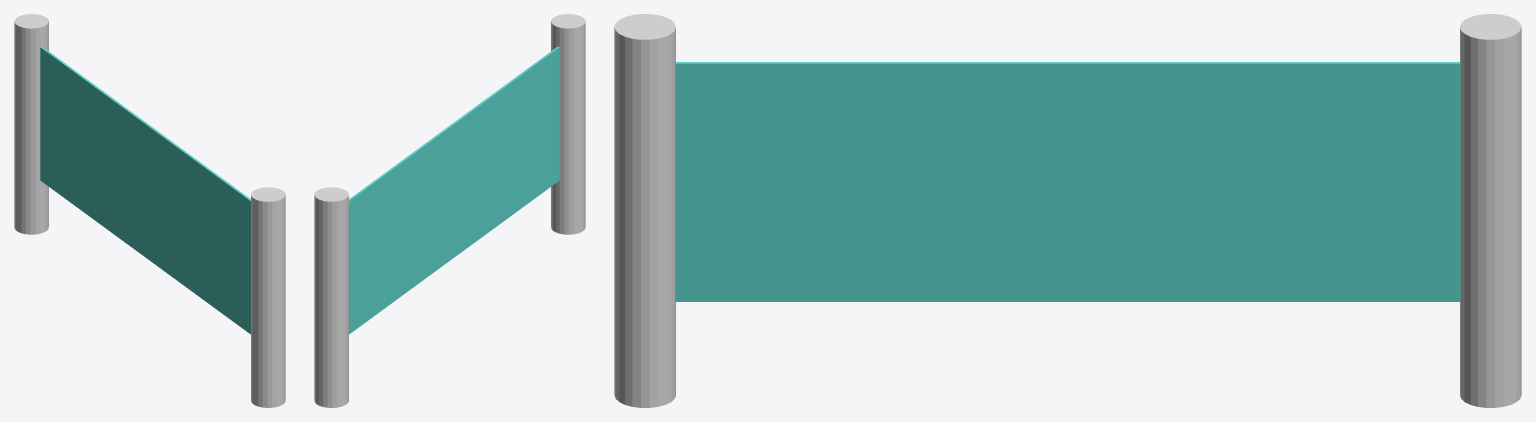
File: change 3.fbx
The picture shows the model from 3 angles, left to right: view 1: azimuth 30°, elevation 25°; view 2: azimuth 150°, elevation 25°; view 3: azimuth 270°, elevation 25°; orthographic projection. The views are drawn at different scales.
Visible parts, largest first — view 1: Snow floor .002; view 2: Snow floor .002; view 3: Snow floor .002.
Part boxes in pixels (left/top/right/bottom): Snow floor .002: left=14, top=14, right=285, bottom=407; Snow floor .002: left=314, top=14, right=585, bottom=407; Snow floor .002: left=614, top=14, right=1521, bottom=407.
Bounding box in the file's own units: 31.02 × 206 × 461.
